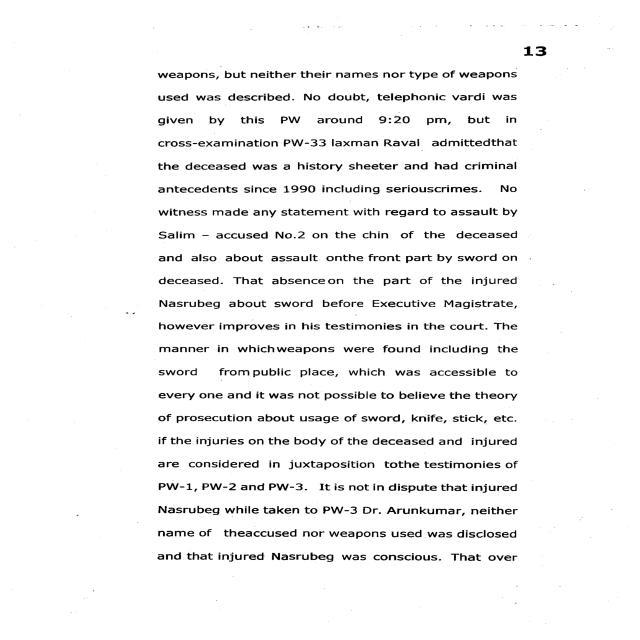page-number: (421, 1, 638, 66)
